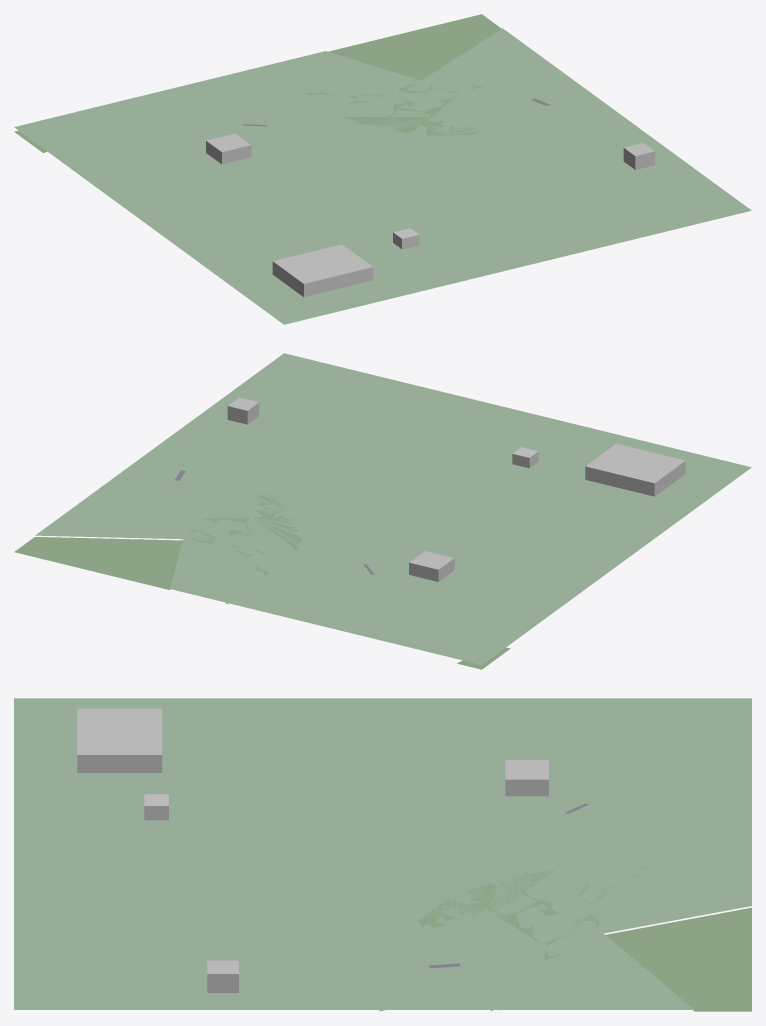
Rendered from 122_118_mid.glb.
3 renders of one model, top to bottom at view 1: azimuth 30°, elevation 25°; view 2: azimuth 150°, elevation 25°; view 3: azimuth 270°, elevation 25°, orthographic. The views are drawn at different scales.
Size of the model in its own units: 500 by 18.9 by 500.
